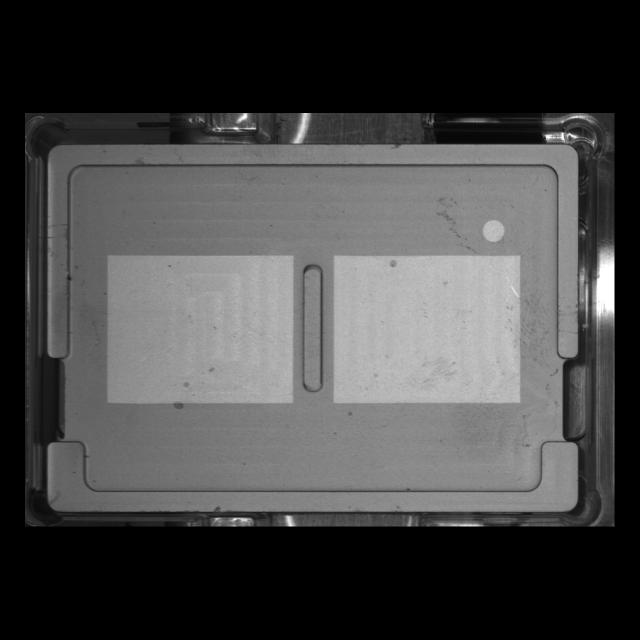door: (36, 426, 592, 522)
point: (479, 216, 508, 245)
